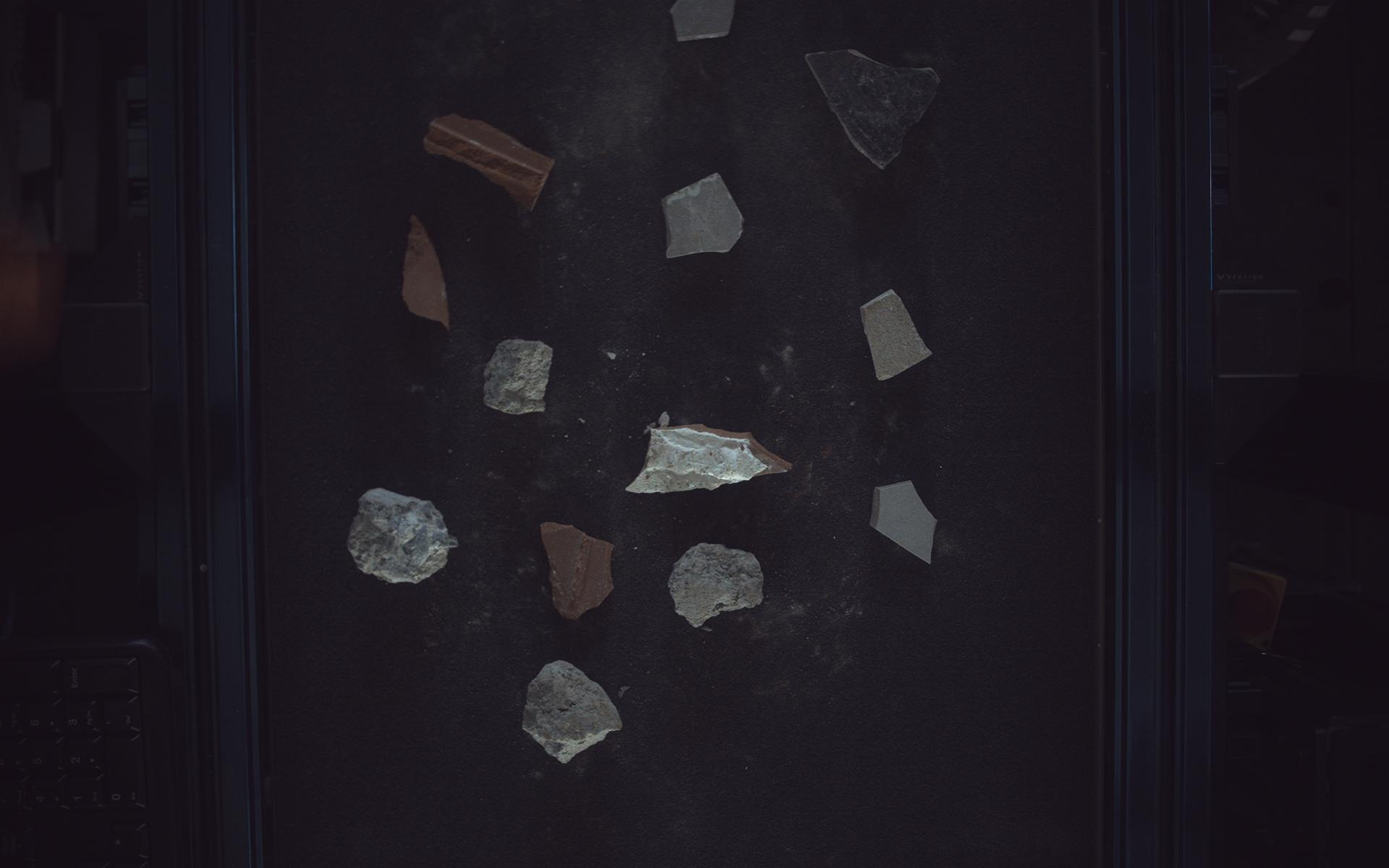brick: (627, 413, 793, 493), (423, 112, 554, 210), (541, 522, 614, 621), (402, 215, 449, 329)
concrete: (347, 488, 458, 584), (523, 661, 623, 764), (669, 544, 765, 628), (484, 339, 553, 414)
tile: (808, 48, 941, 169), (663, 172, 744, 258), (862, 289, 933, 380), (872, 481, 938, 563), (671, 1, 736, 41)
